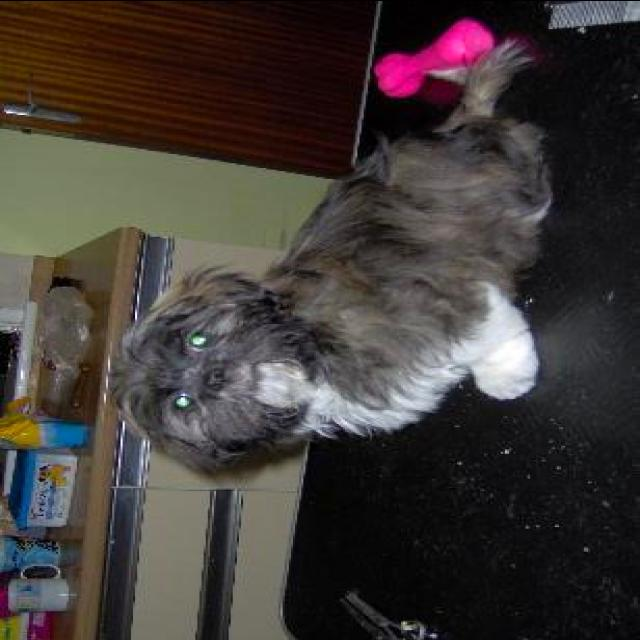shih_tzu: (104, 34, 555, 480)
